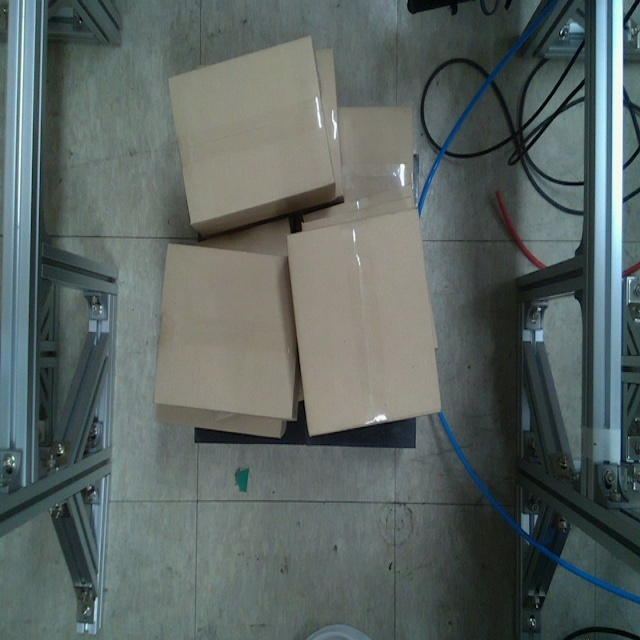box: (286, 207, 443, 437), (166, 33, 337, 227), (152, 241, 302, 421)
